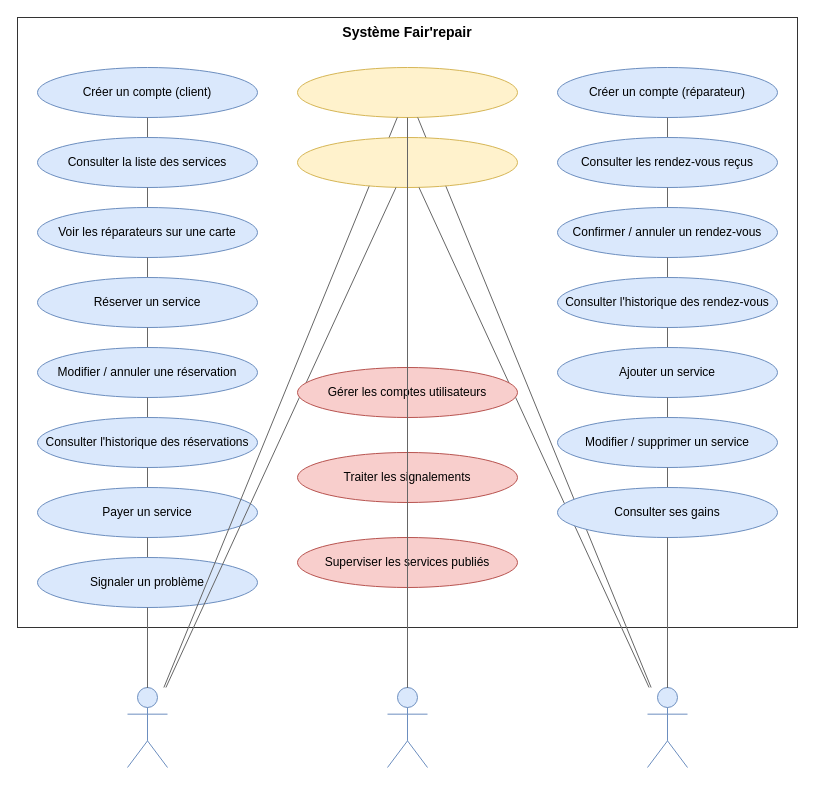
Some shapes in this 815 by 806 pixel diagram are drawn without their labels. Here are the shapes that lost their labels. From the top down, the box of each, then its label:
(296, 66, 518, 118): Se connecter
(296, 136, 518, 188): Gérer son profil
(126, 686, 168, 768): Client
(386, 686, 428, 768): Administrateur
(646, 686, 688, 768): Réparateur
